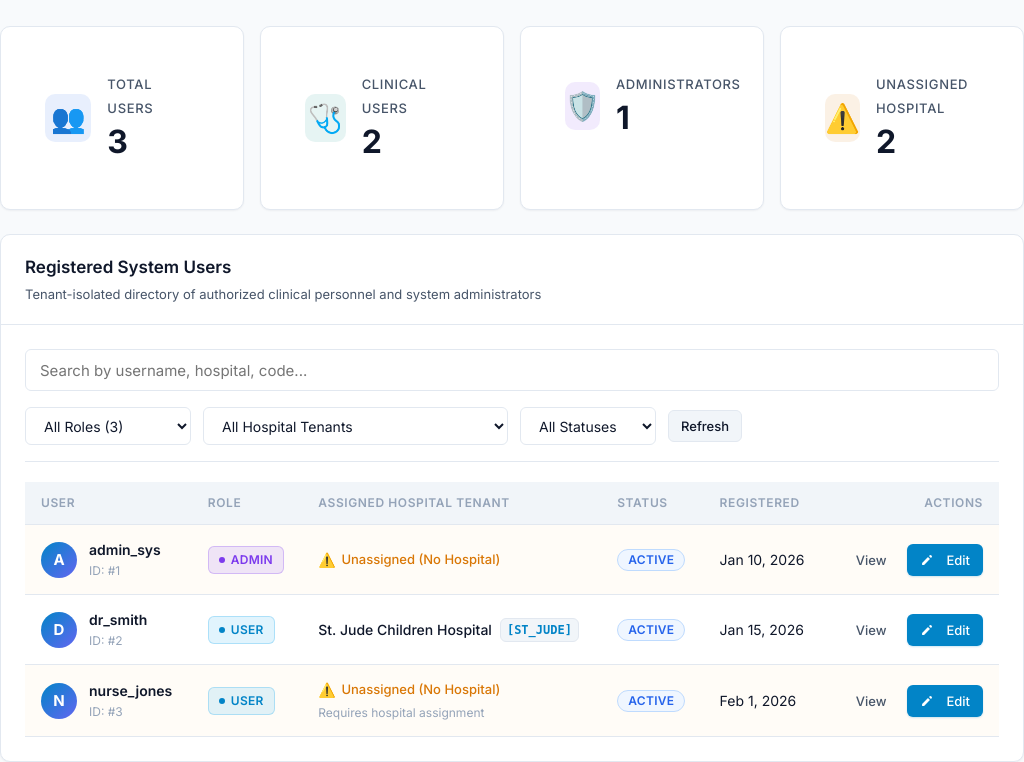
Scenario: UserManagementPage › opens edit modal and displays read-only username
(page scrolled)
Expected: the text "nurse_jones" is shown, [89,680,172,702]
Find Edit button for nurse_jones (3rd row)
Step 1. Click the button "Edit" in the row of "nurse_jones" → (945, 701), box [907,685,983,717]
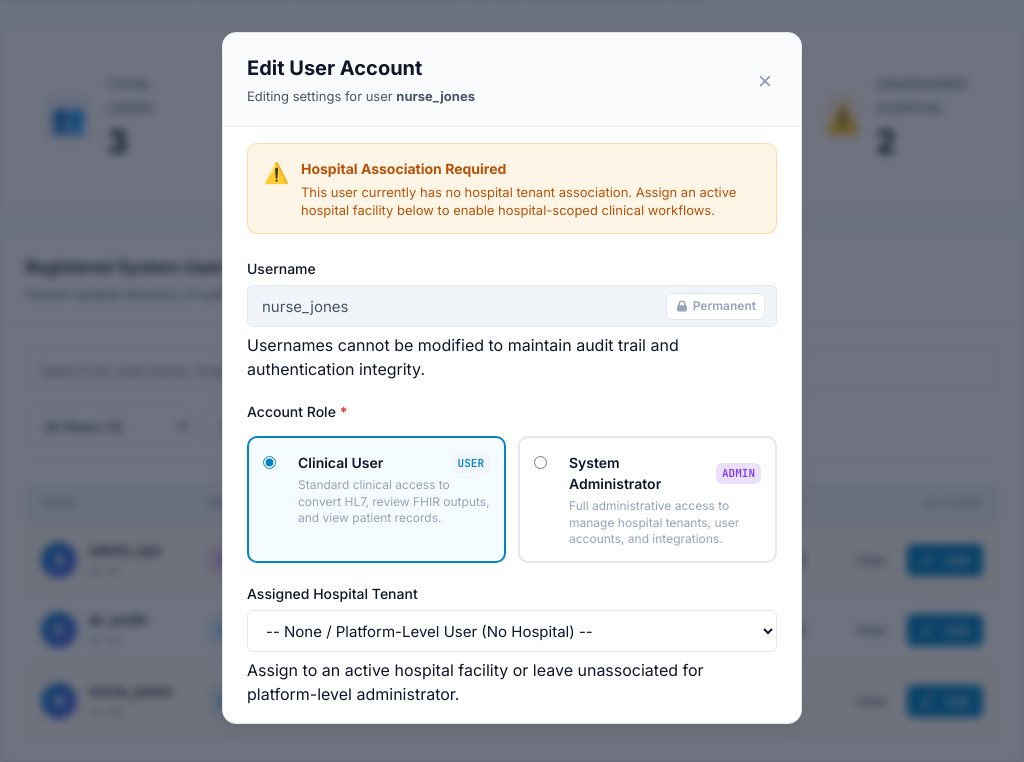
Result: the text "Editing settings for user nurse_jones" is shown at [247,87,475,106]
Result: the field labelled "Username" holds "nurse_jones" at [247,286,777,328]
